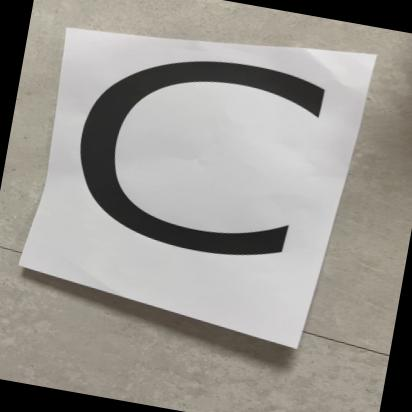seat: (25, 20, 370, 334)
